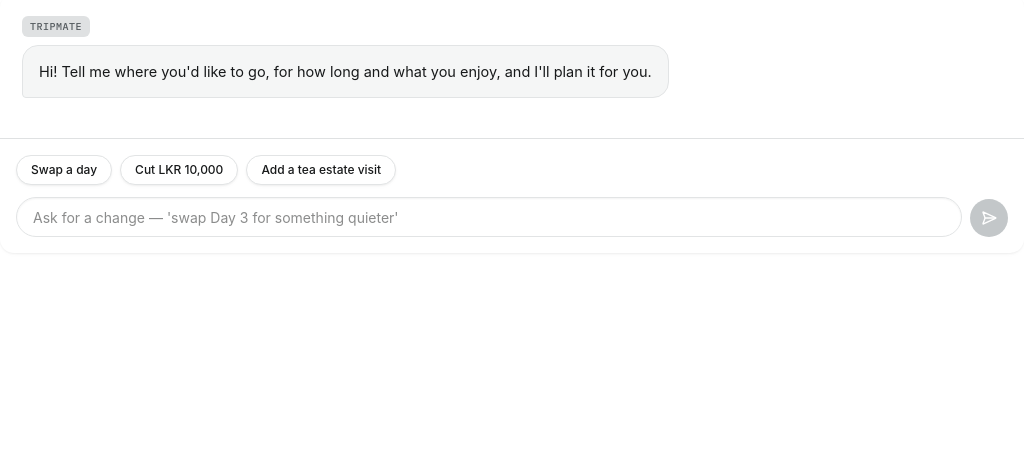
Scenario: ChatPanel › when the request fails › does not offer Retry for a message the server rejected
In the text box named "Message": [489, 218] box [16,198,962,238], type "hello"
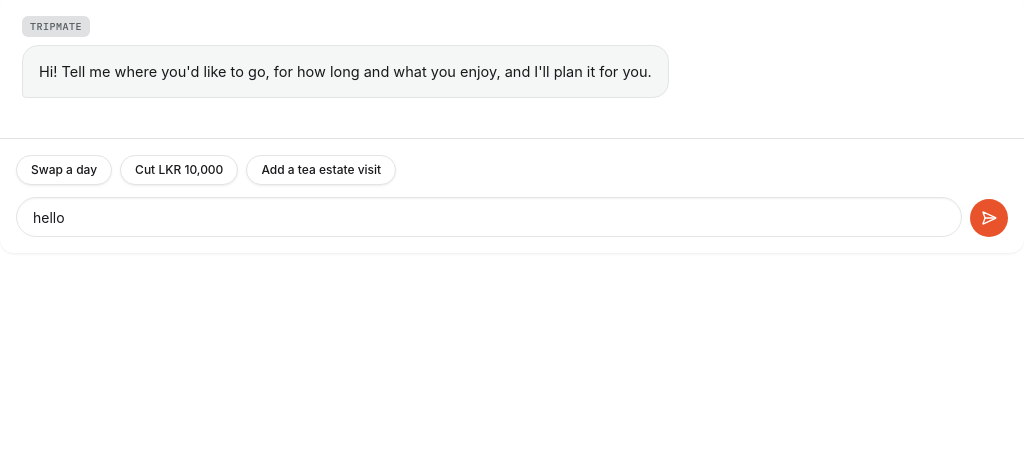
Press Enter in the text box named "Message", box [16,198,962,238]
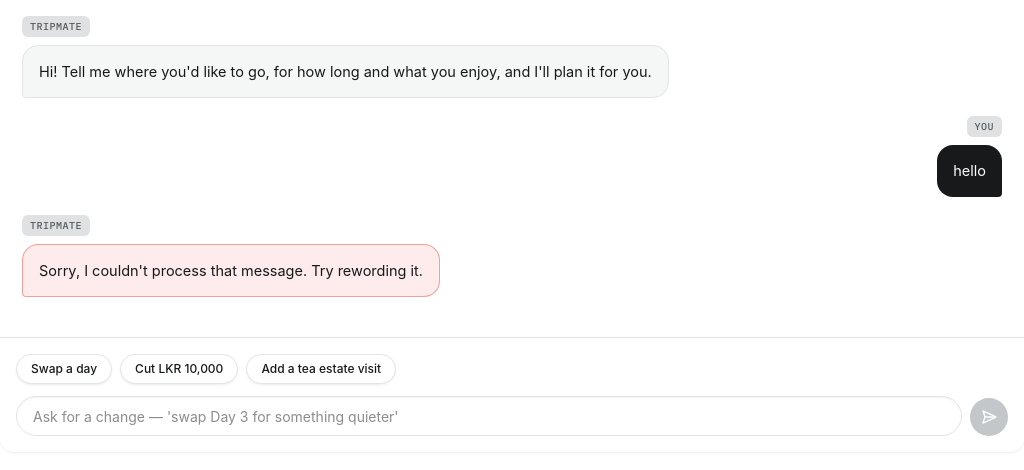
Check: the text "Sorry, I couldn't process that message. Try rewording it." is shown, box [39,259,423,282]
